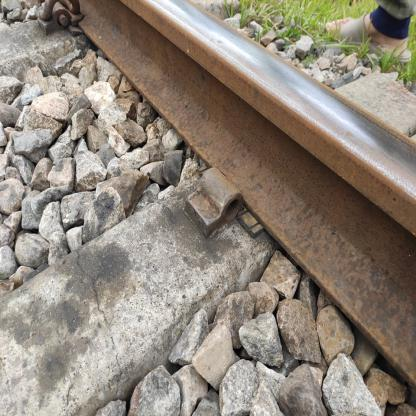Defective: (166, 152, 266, 254)
